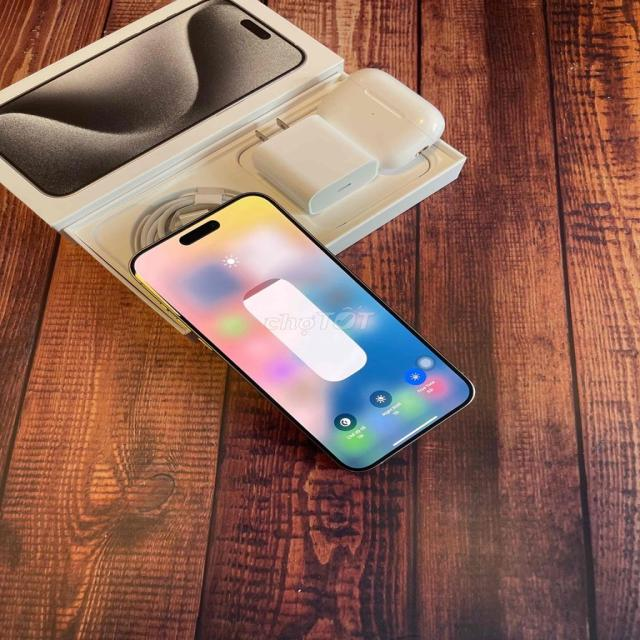gen_15: (123, 190, 483, 475)
